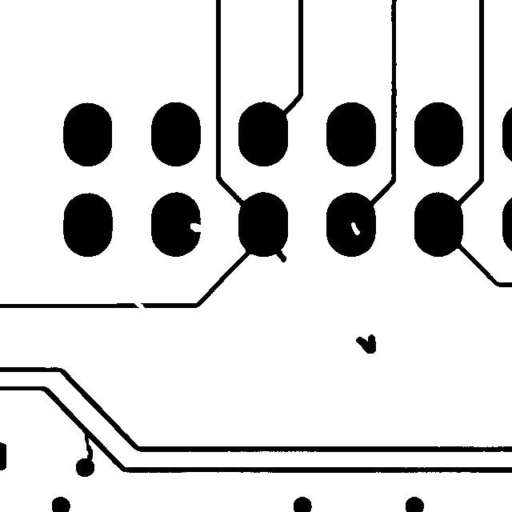copper: (348, 326, 383, 361)
mousebite: (182, 215, 211, 239)
open: (122, 287, 155, 323)
pin-hole: (343, 214, 367, 242)
short: (77, 422, 100, 468)
spur: (263, 239, 294, 270)
